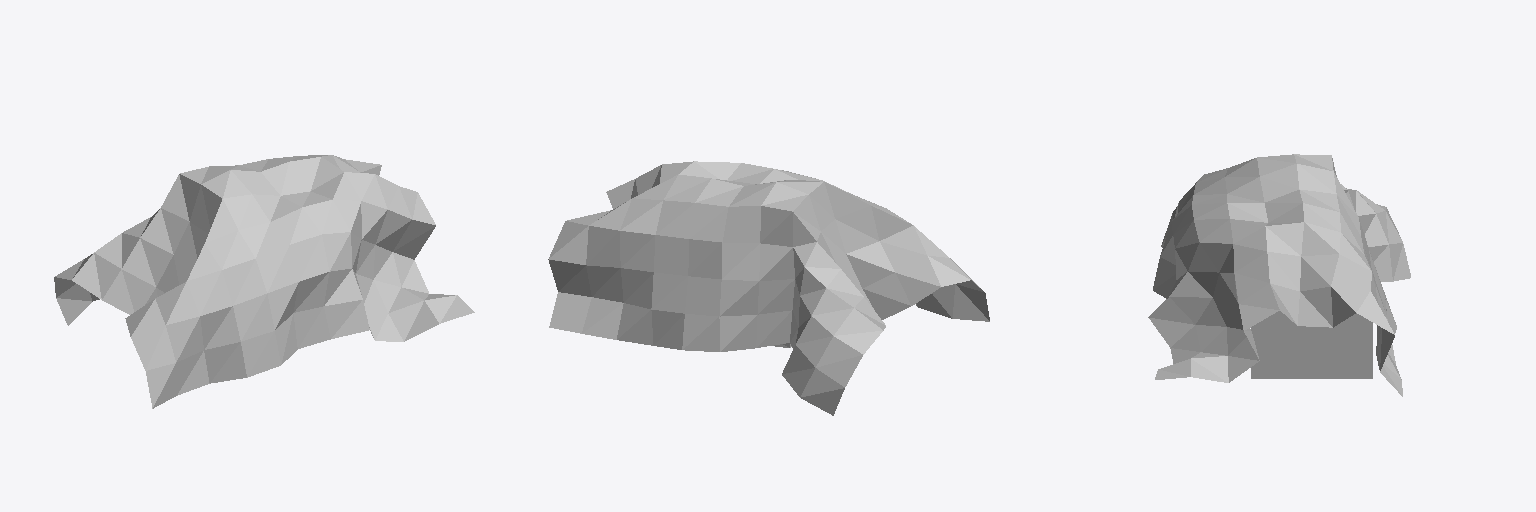
File: TarpCoveredObject.obj
3 renders of one model, left to right at view 1: azimuth 30°, elevation 25°; view 2: azimuth 150°, elevation 25°; view 3: azimuth 270°, elevation 25°, orthographic.
Visible parts, largest first — view 1: TarpCoveredObject.002; view 2: TarpCoveredObject.002; view 3: TarpCoveredObject.002.
Part boxes in pixels (bbox=[...]): TarpCoveredObject.002: bbox=[54, 155, 474, 408]; TarpCoveredObject.002: bbox=[548, 161, 989, 415]; TarpCoveredObject.002: bbox=[1148, 154, 1410, 396].
Bounding box in the file's own units: 1.84 × 0.9013 × 1.28.